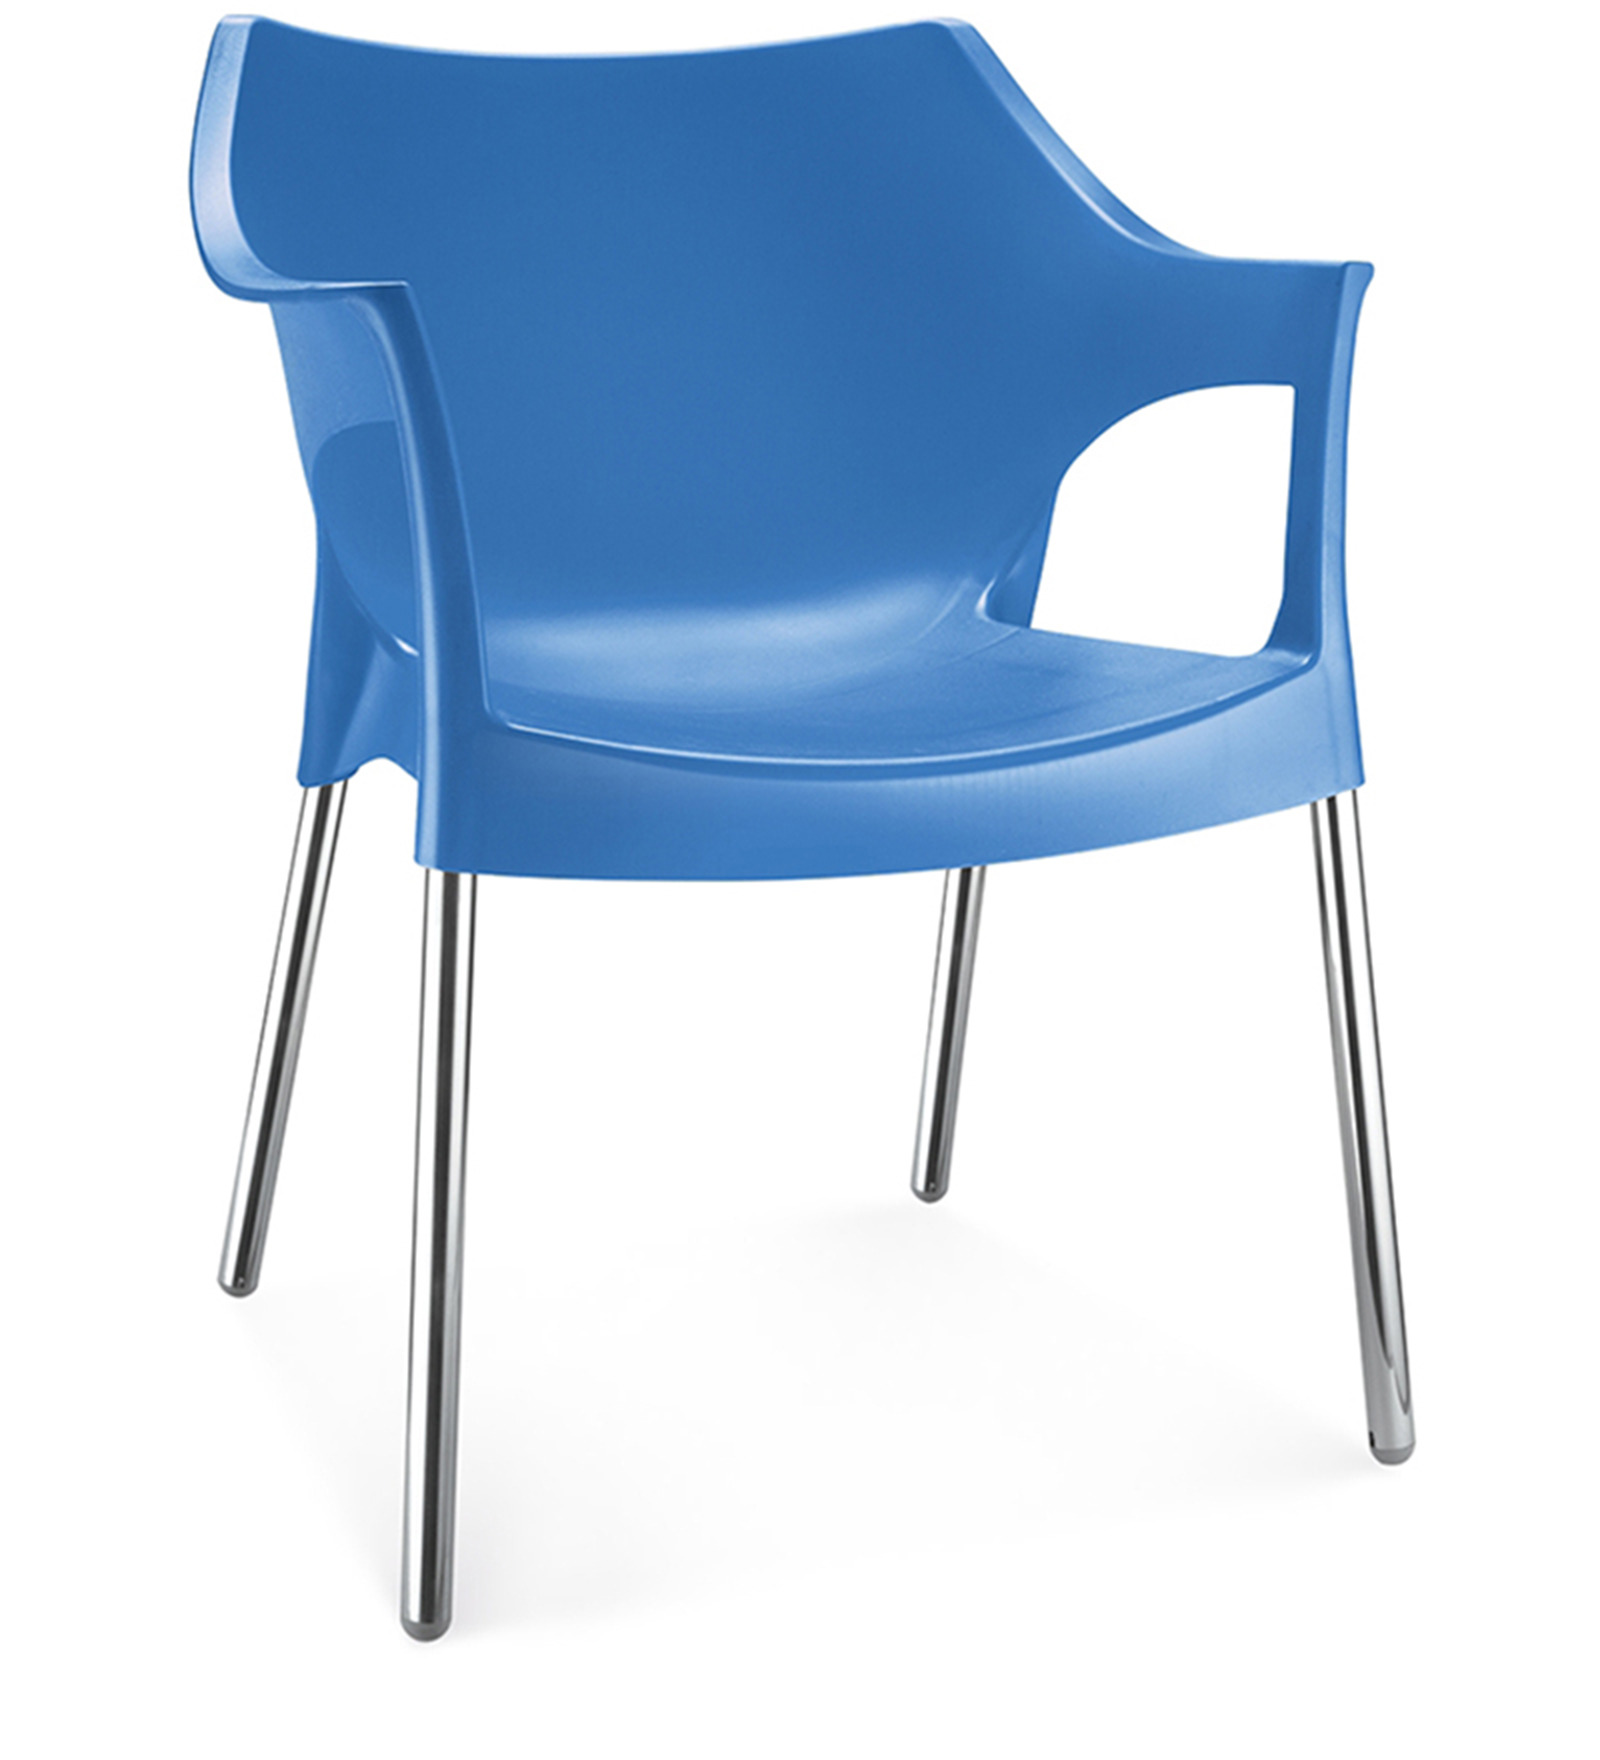Novella Visitor Chair with Arms in Blue Colour by Nilkamal: (182, 12, 1434, 1640)
